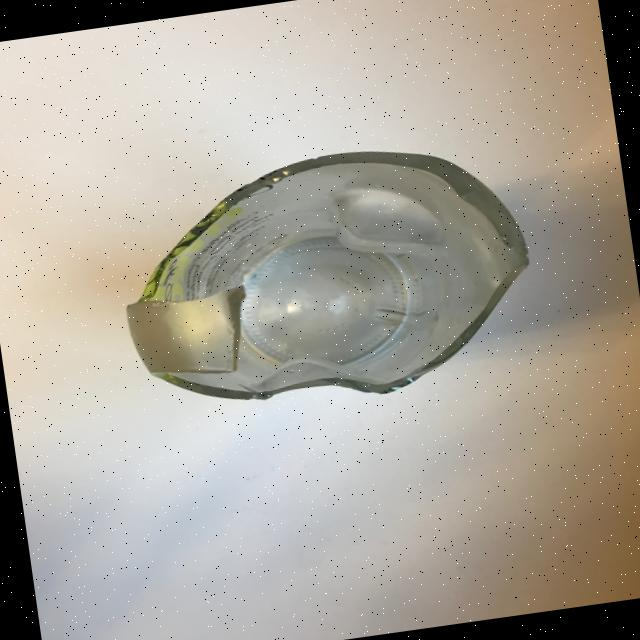glass: (107, 128, 546, 428)
